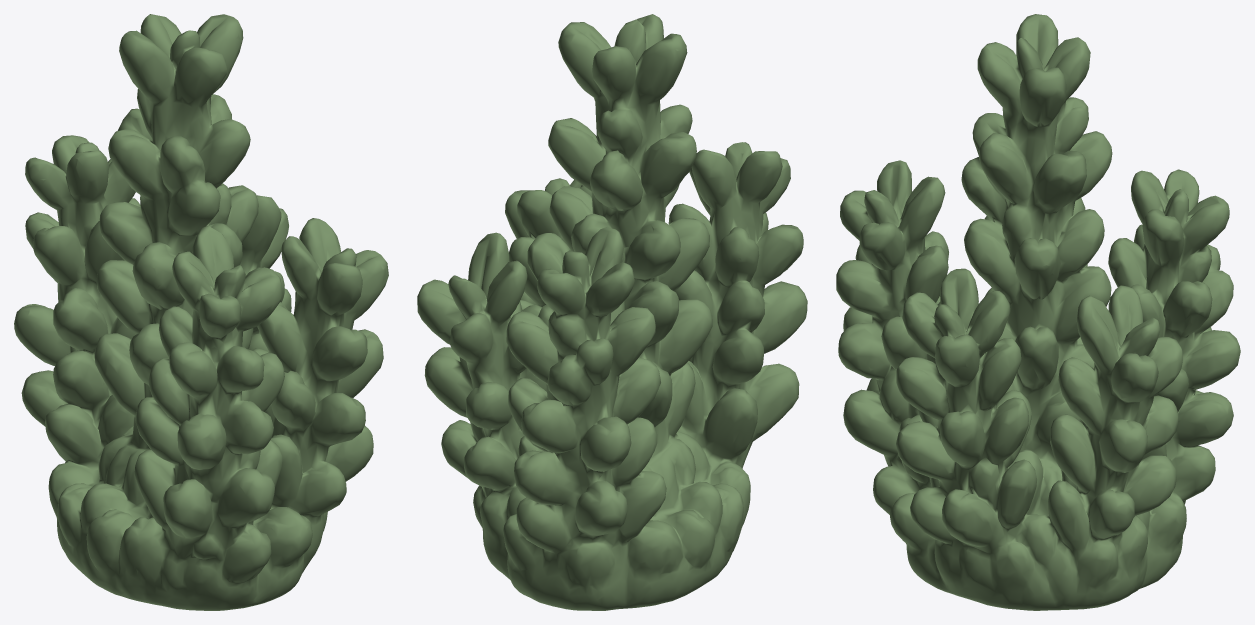
Rendered from thyme-mound.glb.
The picture shows the model from 3 angles, left to right: view 1: azimuth 30°, elevation 25°; view 2: azimuth 150°, elevation 25°; view 3: azimuth 270°, elevation 25°; orthographic projection. The views are drawn at different scales.
Parts seen in each view (by area): view 1: tripo_printable_source; view 2: tripo_printable_source; view 3: tripo_printable_source.
Boxes of the visible parts, <box> form: tripo_printable_source: <box>14,14,388,610</box>; tripo_printable_source: <box>417,14,807,610</box>; tripo_printable_source: <box>836,14,1240,610</box>.
Bounding box in the file's own units: 51.08 × 100 × 70.
